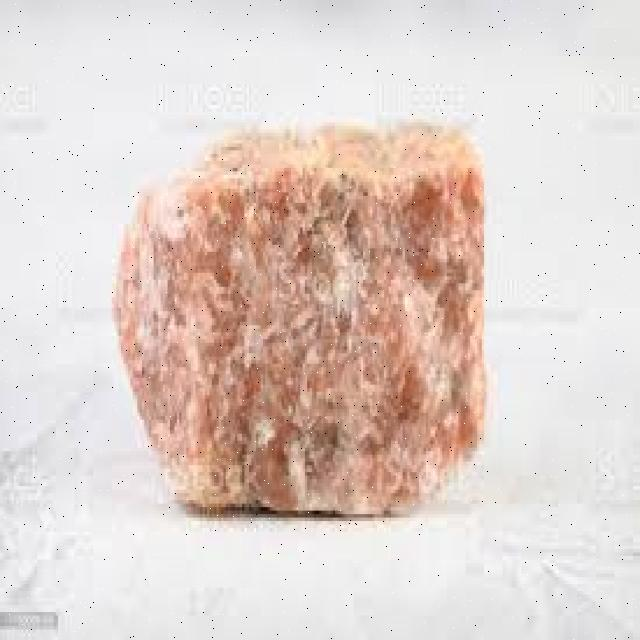Metamorphic: (93, 116, 503, 514)
